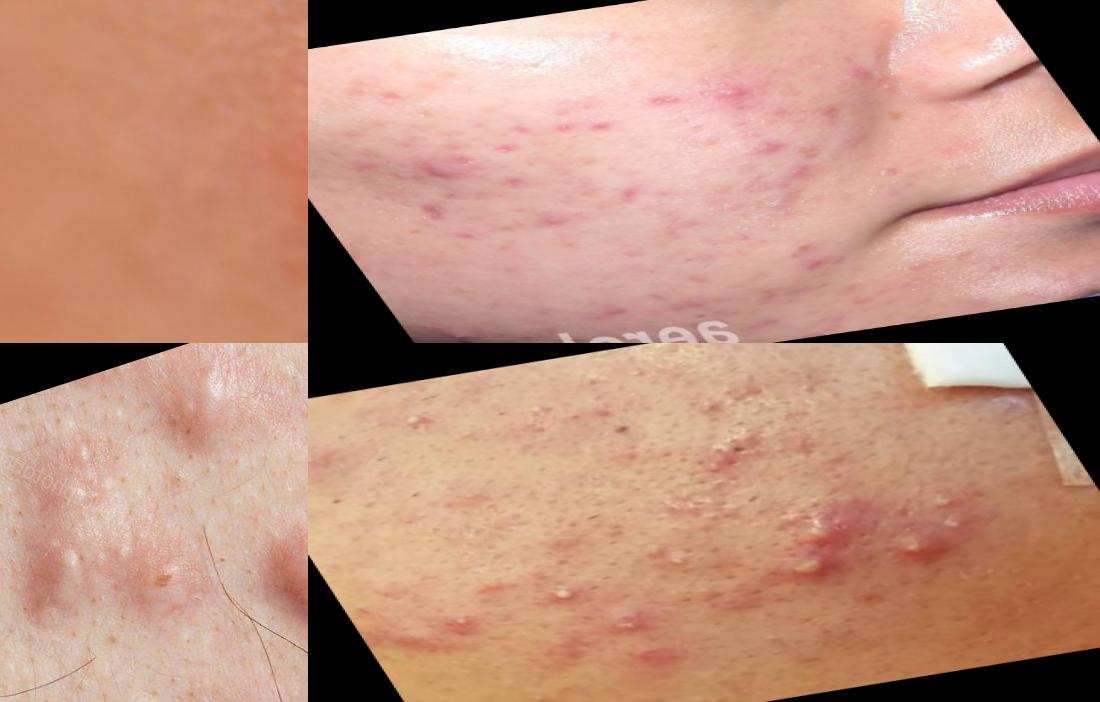acne_scars: (471, 104, 634, 164), (372, 190, 485, 236), (329, 76, 435, 119), (416, 227, 503, 256), (605, 177, 668, 211)
blackhead: (666, 432, 779, 486), (641, 495, 749, 533), (749, 626, 820, 659)
cystic: (226, 58, 309, 344), (766, 507, 871, 556), (397, 153, 494, 197)
keloid: (214, 466, 309, 660), (1, 516, 118, 670)
milium: (797, 49, 843, 75)
papular: (669, 69, 781, 120), (515, 201, 593, 243)
purulent: (755, 552, 846, 603), (364, 402, 455, 442), (527, 579, 598, 615), (414, 318, 495, 344), (639, 549, 702, 582), (894, 533, 951, 569), (925, 508, 984, 540), (917, 488, 975, 517)
whitehead: (559, 354, 670, 398), (850, 5, 925, 44), (593, 606, 669, 644), (427, 612, 488, 639), (510, 396, 568, 423), (433, 420, 487, 447), (309, 443, 344, 476)
